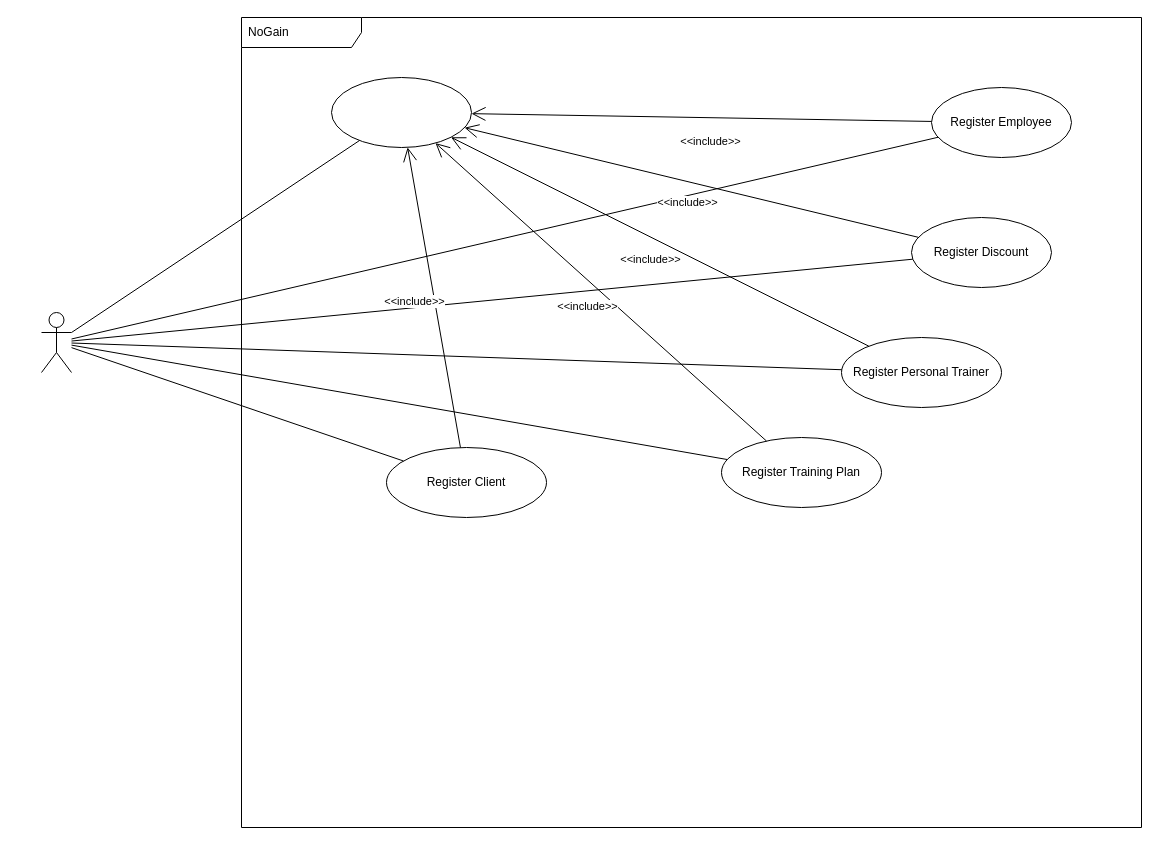
This 1159x845 diagram has some shape labels left out. Here are the shapes that lost their labels. From the top down, the box of each, then its label:
(330, 76, 472, 148): Login
(40, 312, 72, 372): A01 - Manager
